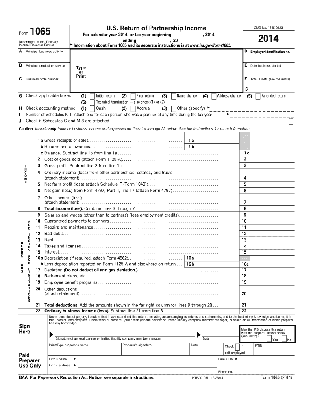checkbox: (169, 91, 177, 100), (169, 104, 177, 113), (287, 117, 295, 126), (280, 334, 288, 343), (265, 334, 273, 343), (89, 91, 96, 101), (88, 98, 95, 107), (88, 104, 95, 113), (129, 104, 136, 113), (129, 91, 136, 100), (210, 91, 217, 100), (254, 91, 261, 100), (234, 342, 241, 351)
textbox: (90, 47, 244, 94), (72, 354, 217, 363), (248, 130, 296, 157), (216, 360, 296, 376), (15, 73, 71, 94), (72, 360, 218, 368), (119, 341, 191, 357), (46, 342, 122, 357), (241, 74, 297, 93), (16, 61, 71, 77), (241, 61, 296, 77), (16, 48, 71, 63), (241, 48, 296, 63), (248, 253, 297, 269), (248, 191, 296, 207), (249, 166, 296, 182), (248, 294, 295, 310), (248, 283, 297, 298), (252, 341, 297, 357), (193, 130, 240, 145), (215, 355, 297, 363), (188, 341, 225, 357), (247, 234, 296, 245), (248, 240, 297, 251), (248, 179, 297, 189), (248, 203, 297, 213), (248, 209, 297, 219), (248, 216, 297, 226), (248, 222, 297, 232), (248, 229, 297, 239), (248, 247, 297, 257), (248, 265, 297, 275), (247, 271, 296, 281), (248, 277, 297, 287), (248, 306, 297, 316), (249, 160, 295, 170), (248, 186, 297, 195), (193, 142, 240, 151), (193, 260, 240, 269), (249, 154, 295, 163), (193, 254, 239, 262)
textline: (54, 330, 195, 337), (206, 105, 295, 112), (226, 112, 296, 119), (201, 331, 240, 337), (172, 31, 202, 38), (139, 37, 169, 43), (179, 37, 193, 43)
